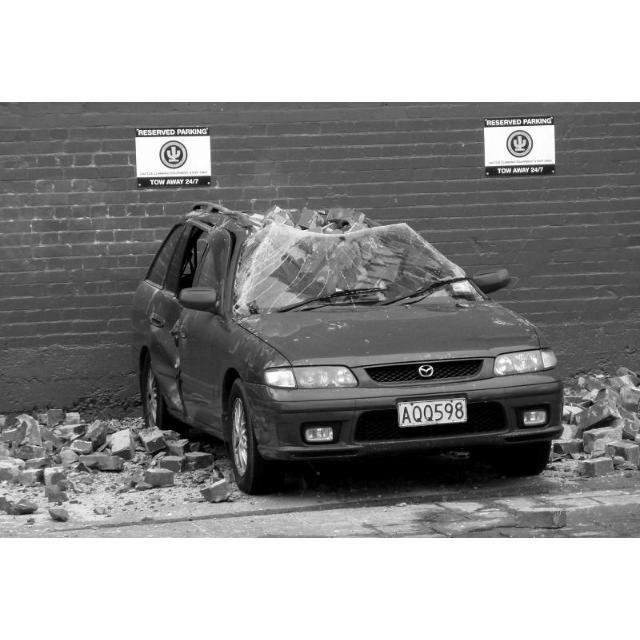Front-windscreen-damage: (238, 225, 447, 305)
bonnet-dent: (238, 304, 538, 364)
doorouter-dent: (134, 298, 193, 414)
roof-dent: (184, 204, 407, 228)
